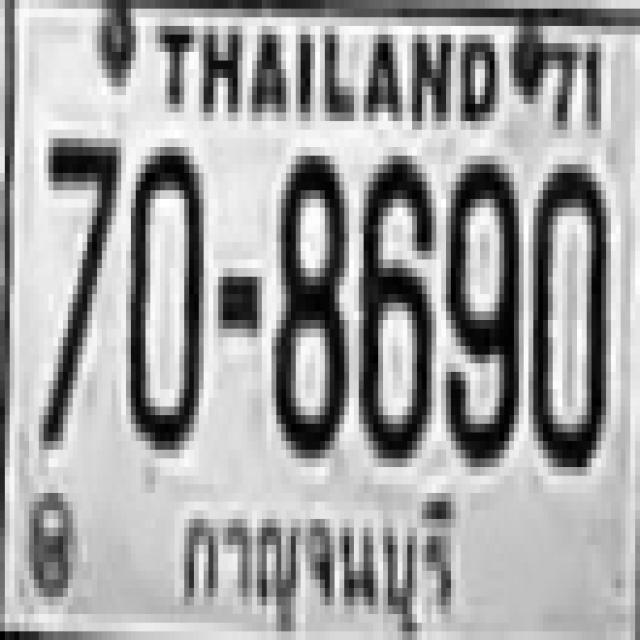0: (529, 156, 606, 458), (126, 138, 199, 441)
6: (356, 147, 429, 450)
7: (39, 130, 116, 441), (44, 130, 116, 415)
8: (272, 147, 344, 450)
9: (441, 156, 514, 458)
KRI: (172, 482, 460, 636)
